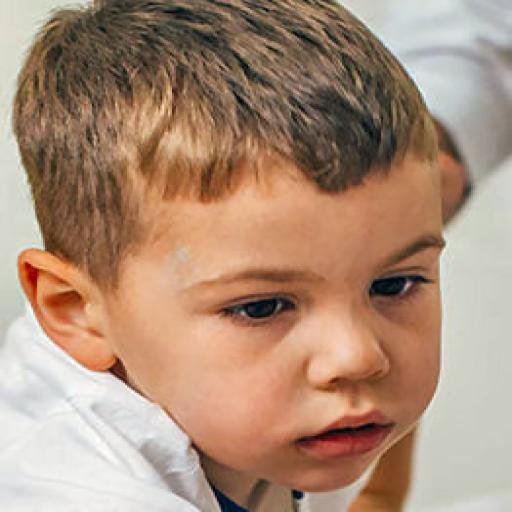Autism: (16, 7, 480, 488)
